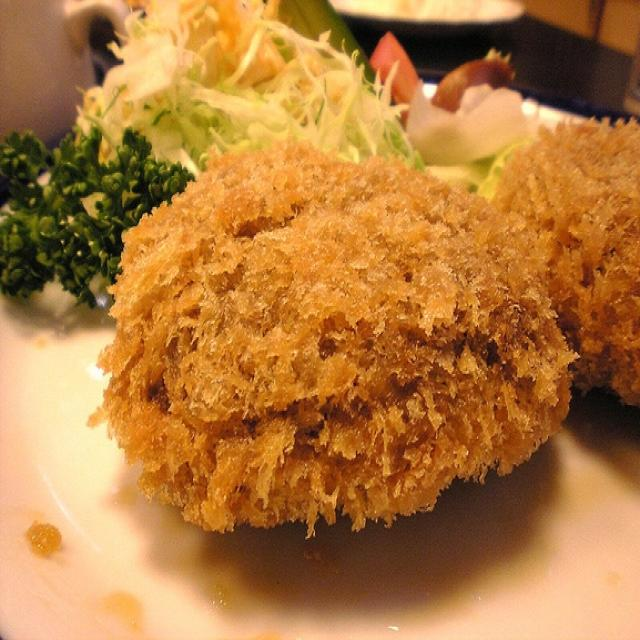炸货点心: (6, 13, 634, 612)
